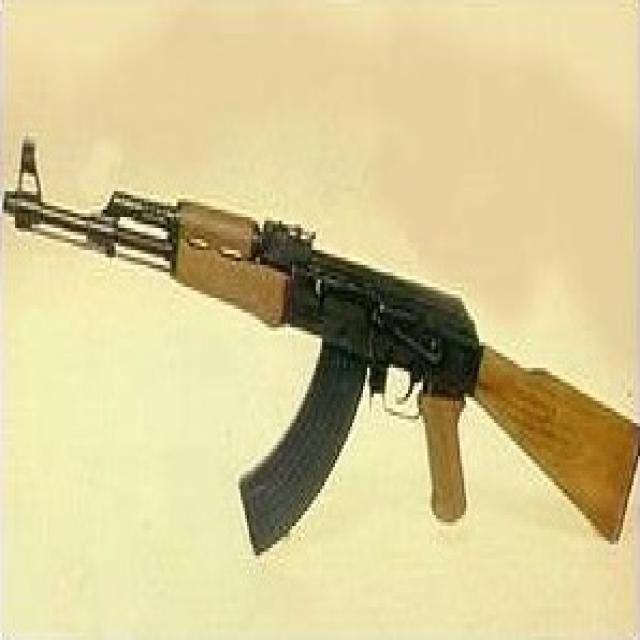Gun: (11, 110, 626, 585)
